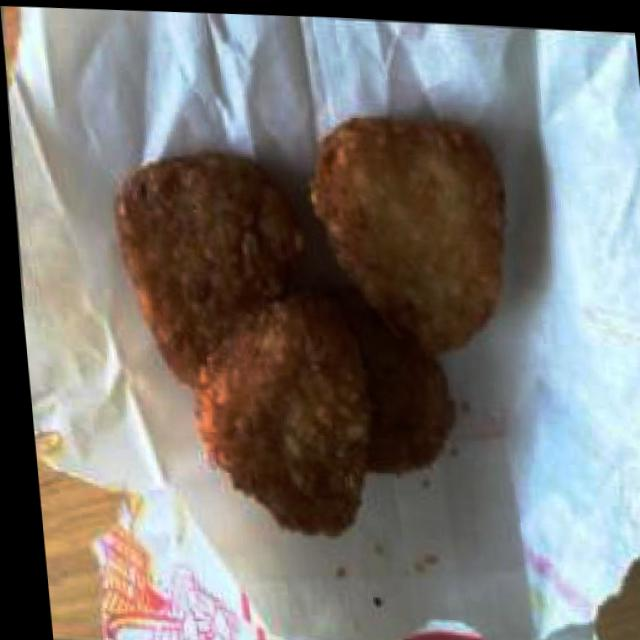Hashbrown: (112, 101, 538, 547), (300, 108, 519, 357), (112, 150, 317, 398), (191, 282, 384, 542), (361, 332, 457, 478)
